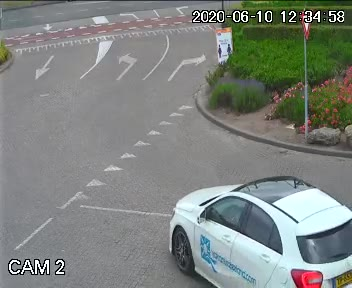car: (154, 164, 352, 288)
